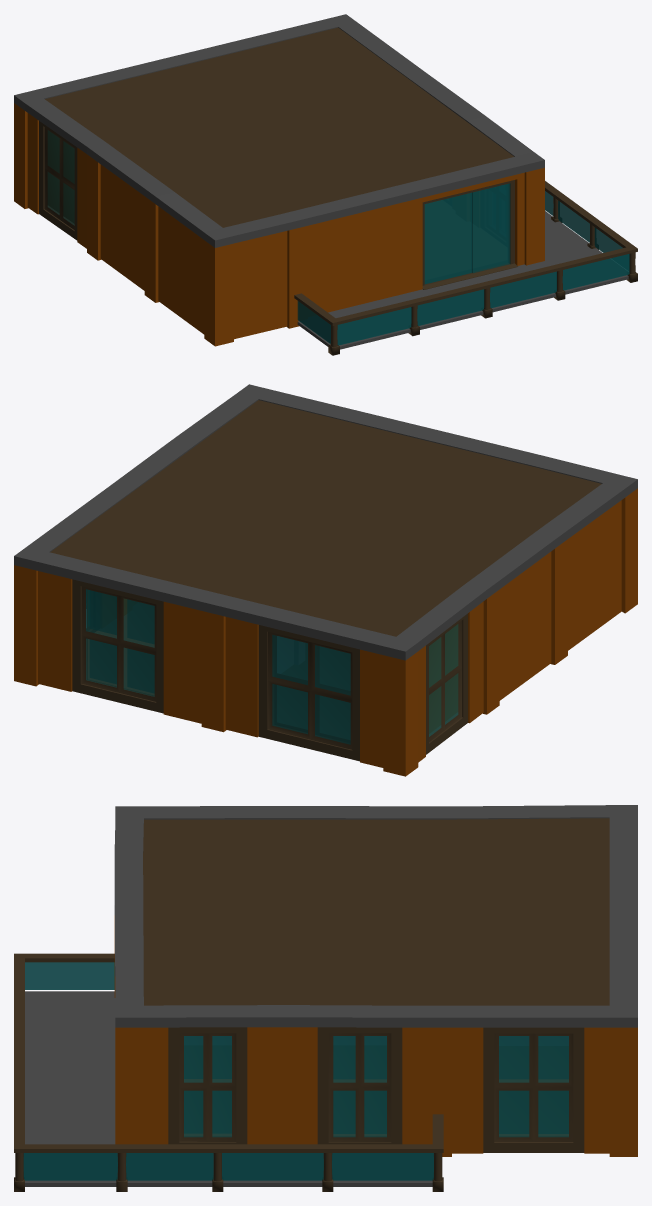
The model's file is crime scene 1 FBX 2.fbx.
3 renders of one model, top to bottom at view 1: azimuth 30°, elevation 25°; view 2: azimuth 150°, elevation 25°; view 3: azimuth 270°, elevation 25°, orthographic. The views are drawn at different scales.
Parts seen in each view (by area): view 1: Building, Ceiling, Door; view 2: Building, Ceiling; view 3: Building, Ceiling.
Boxes of the visible parts, <box> form: Building: <box>14,14,637,355</box>; Ceiling: <box>45,27,513,227</box>; Door: <box>424,192,472,284</box>; Building: <box>14,384,637,776</box>; Ceiling: <box>50,400,601,636</box>; Building: <box>14,805,637,1191</box>; Ceiling: <box>143,818,609,1005</box>.
Bounding box in the file's own units: 26.56 × 7.09 × 28.33.
